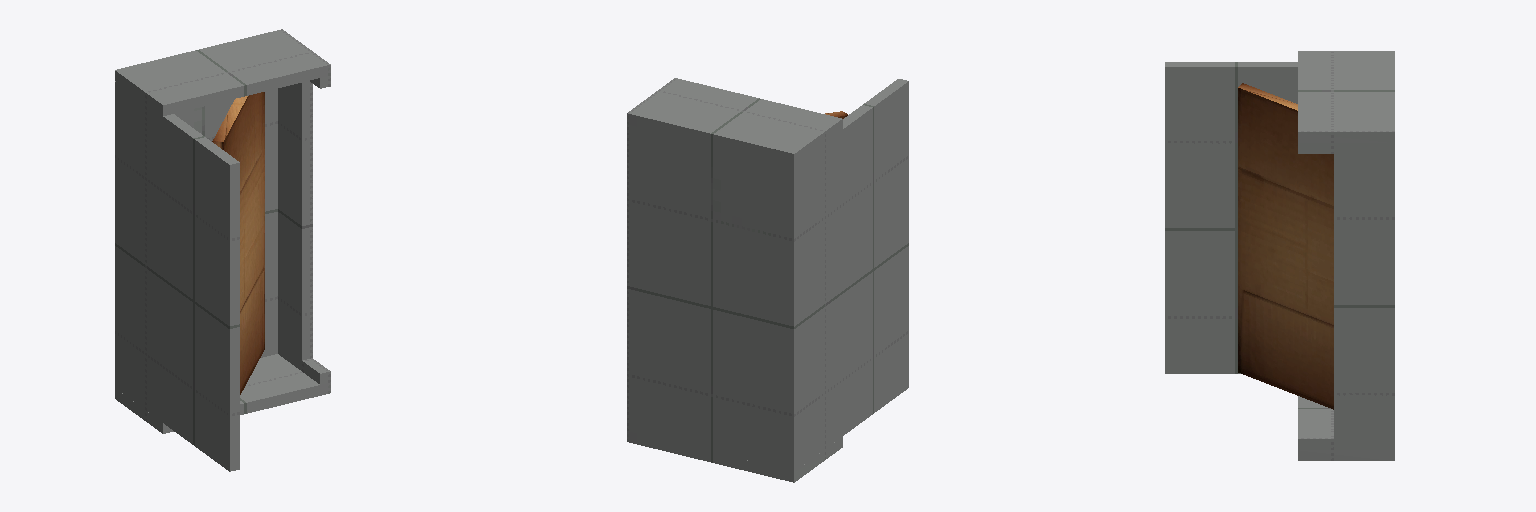
The picture shows the model from 3 angles: view 1: azimuth 30°, elevation 25°; view 2: azimuth 150°, elevation 25°; view 3: azimuth 270°, elevation 25°; orthographic projection.
Parts seen in each view (by area): view 1: 4, 9, 7, 5, 3, 2; view 2: 3, 4, 9, 7, 2; view 3: 5, 4, 7, 9, 2, 10.
Boxes of the visible parts, x1,y1,x2,y2 form: 4: [121, 86, 239, 471]; 9: [115, 29, 330, 115]; 7: [278, 81, 312, 370]; 5: [212, 92, 264, 394]; 3: [115, 81, 277, 391]; 2: [115, 354, 330, 433]; 3: [637, 127, 799, 471]; 4: [784, 79, 908, 471]; 9: [627, 78, 842, 164]; 7: [627, 124, 636, 432]; 2: [627, 431, 842, 482]; 5: [1238, 83, 1333, 409]; 4: [1165, 62, 1297, 373]; 7: [1334, 143, 1394, 449]; 9: [1298, 51, 1394, 142]; 2: [1298, 396, 1394, 460]; 10: [1298, 434, 1333, 449].
Size of the model in its own units: 16.01 by 30 by 19.
2 materials, 2 textured.